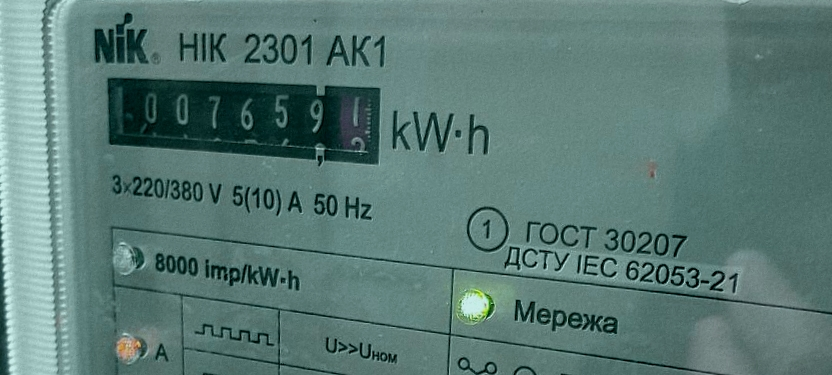0: (171, 88, 194, 130), (140, 88, 163, 127)
1: (344, 92, 366, 130)
5: (269, 90, 294, 132)
6: (235, 92, 260, 134)
7: (202, 90, 227, 131)
9: (305, 95, 328, 136)
screen: (93, 62, 391, 175)
